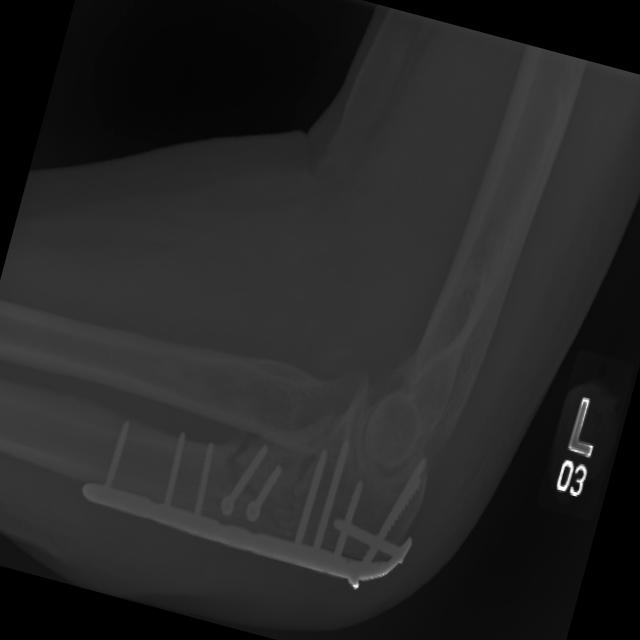elbow positive: (207, 424, 266, 498)
